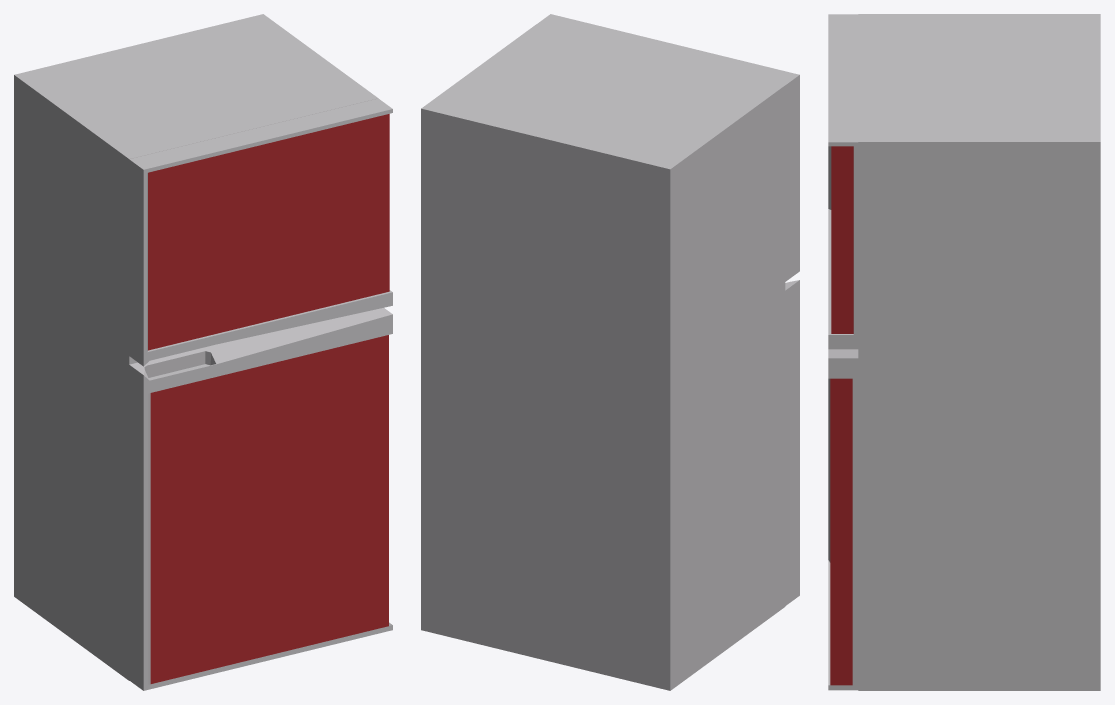
Rendered from Fridge.glb.
3 views of the same model, side by side, from view 1: azimuth 30°, elevation 25°; view 2: azimuth 150°, elevation 25°; view 3: azimuth 270°, elevation 25° (orthographic). The views are drawn at different scales.
Visible parts, largest first — view 1: FridgeBody, FridgeDoor, FreezerDoor; view 2: FridgeBody, FreezerDoor, FridgeDoor; view 3: FridgeBody, FridgeDoor, FreezerDoor.
Boxes of the visible parts, x1=… form: FridgeBody: x1=14, y1=14, x2=378, y2=680; FridgeDoor: x1=129, y1=308, x2=392, y2=690; FreezerDoor: x1=129, y1=98, x2=392, y2=366; FridgeBody: x1=421, y1=24, x2=785, y2=690; FreezerDoor: x1=537, y1=14, x2=799, y2=281; FridgeDoor: x1=785, y1=280, x2=799, y2=605; FridgeBody: x1=858, y1=14, x2=1100, y2=690; FridgeDoor: x1=828, y1=349, x2=858, y2=690; FreezerDoor: x1=828, y1=14, x2=858, y2=349.
Bounding box in the file's own units: 2 × 4 × 1.8.
Materials: 1 (1 with a texture image).
